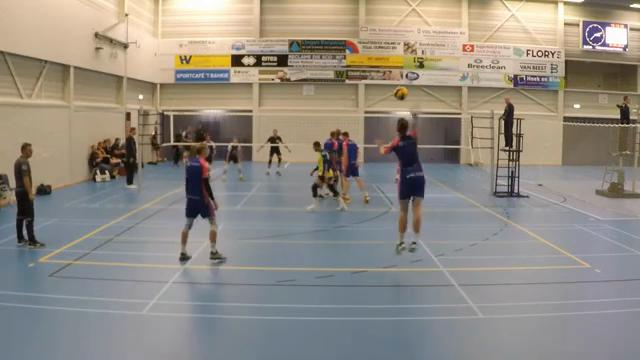Player: (179, 144, 224, 261), (307, 141, 346, 210), (341, 131, 369, 202), (258, 129, 290, 175), (222, 137, 244, 181), (334, 129, 343, 189), (323, 131, 337, 163), (205, 133, 215, 164)
Serve: (372, 102, 425, 257)
ball: (395, 86, 407, 101)
